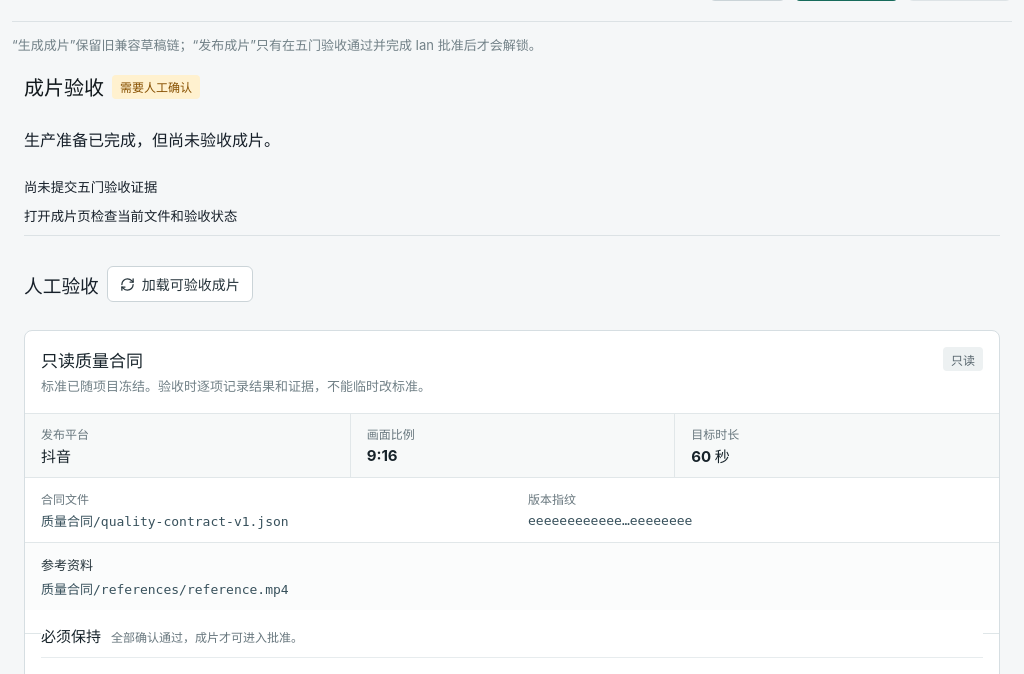
成片页面 › 人工验收默认选择当前时间线，历史成片只可查看不可验收
Expected: the text "尚未提交五门验收证据" is shown, [24, 179, 157, 195]
Click the button "加载可验收成片" at (180, 284), box [107, 266, 253, 302]
(page scrolled)
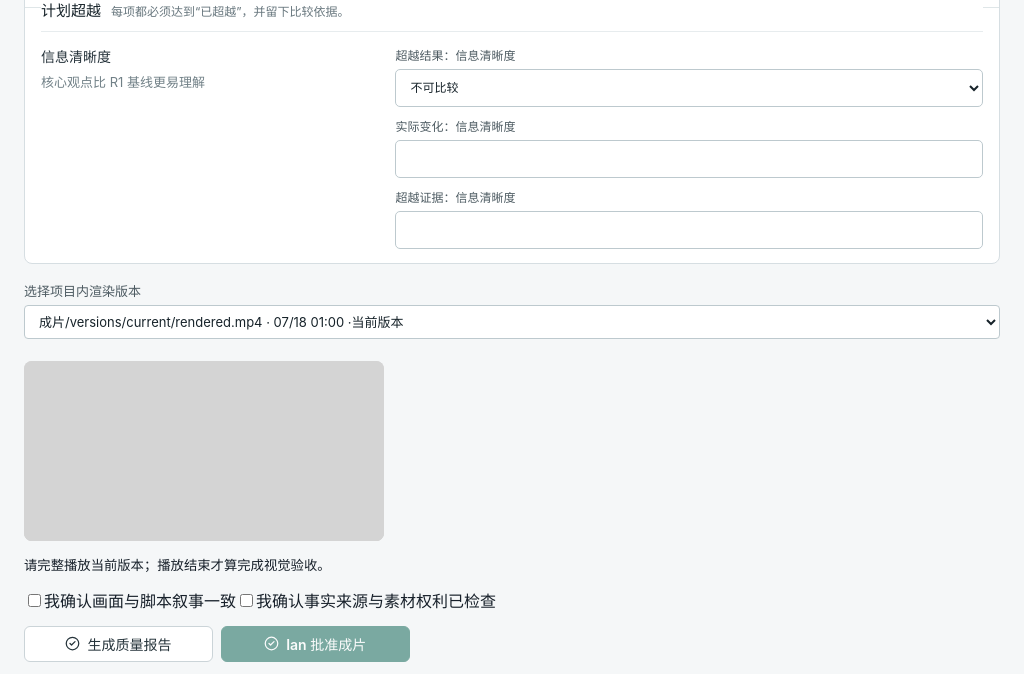
Result: the dropdown labelled "选择项目内渲染版本" shows "成片/versions/current/rendered.mp4 · 07/18 01:00 ·当前版本" at [24, 305, 1000, 339]
